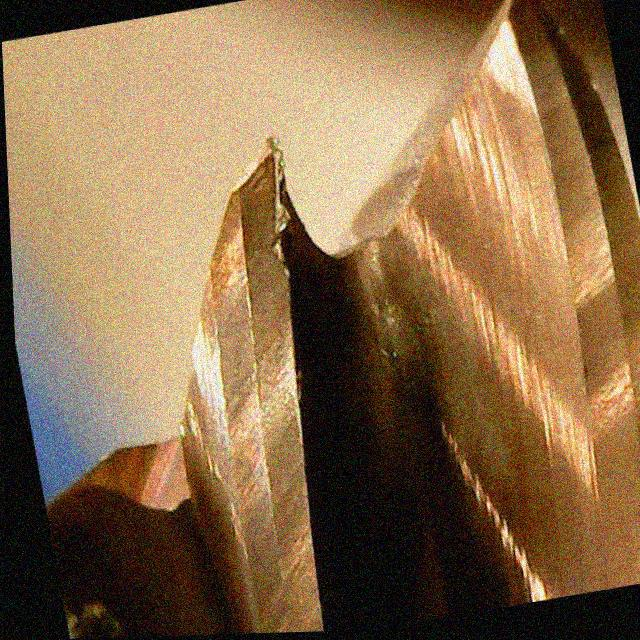Tool-wear-class-1: (159, 128, 348, 472)
